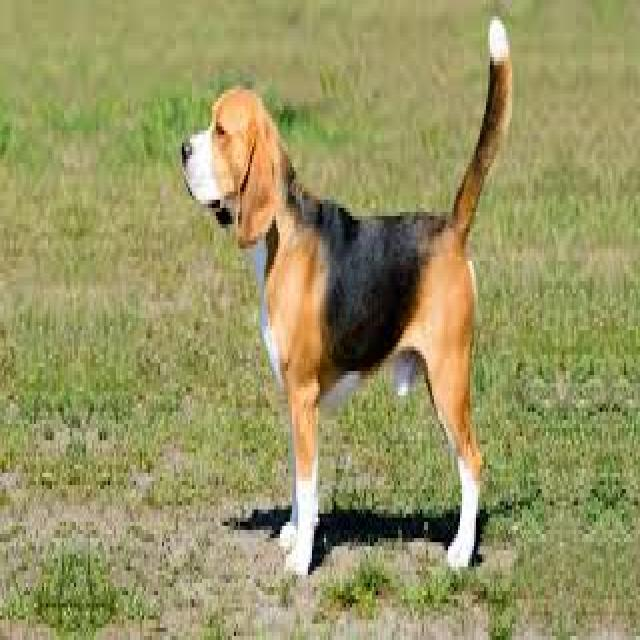Dog: (177, 14, 516, 593)
